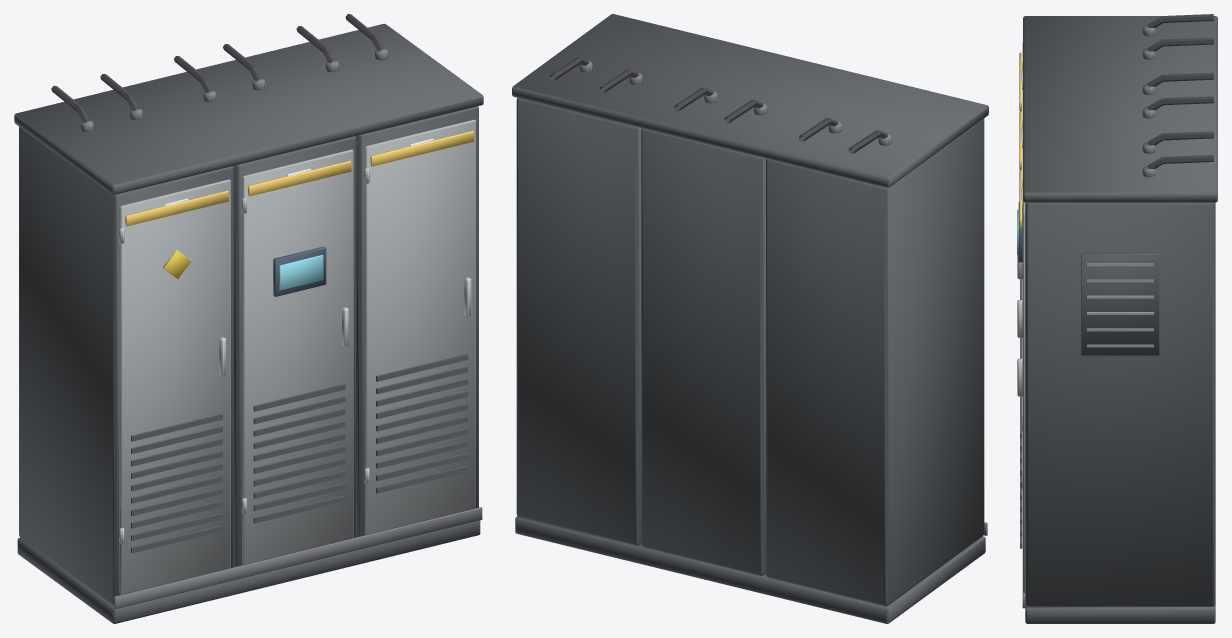
The model's file is ups.glb.
The picture shows the model from 3 angles, left to right: view 1: azimuth 30°, elevation 25°; view 2: azimuth 150°, elevation 25°; view 3: azimuth 270°, elevation 25°; orthographic projection. The views are drawn at different scales.
Parts seen in each view (by area): view 1: Body; view 2: Body; view 3: Body.
Part boxes in pixels (x1,y1,x2,y2): Body: (14, 14, 483, 623); Body: (512, 14, 988, 623); Body: (1017, 14, 1217, 623).
Bounding box in the file's own units: 1.89 × 2.23 × 0.897.
